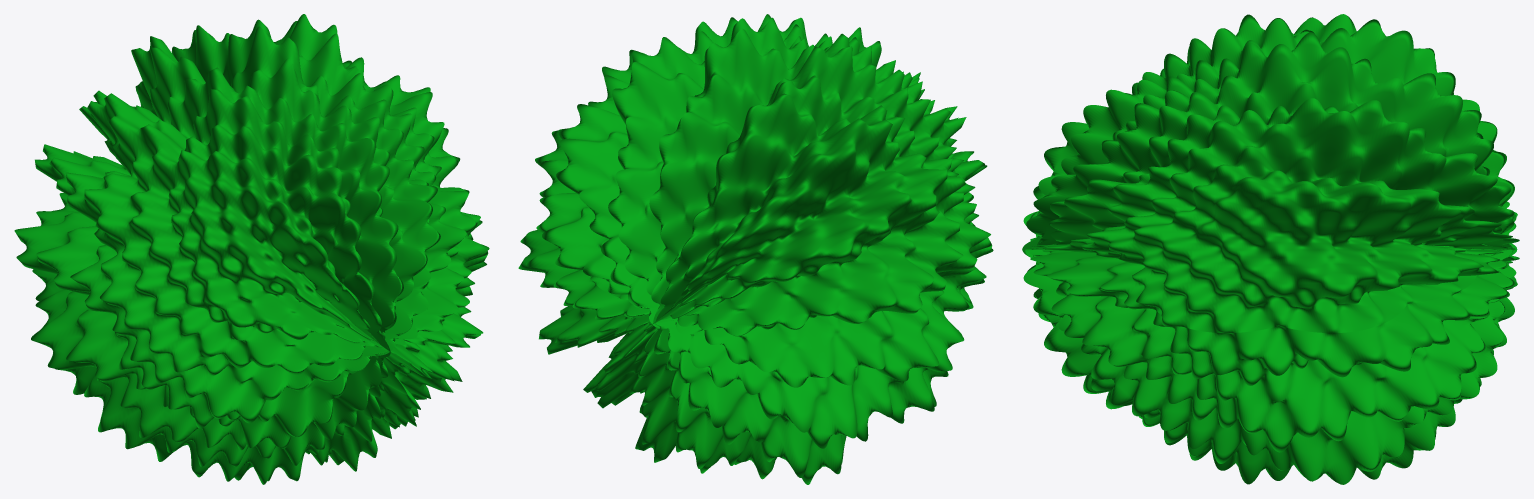
File: dendrimer_nanotech_-_molecular_architecture.glb
3 renders of one model, left to right at view 1: azimuth 30°, elevation 25°; view 2: azimuth 150°, elevation 25°; view 3: azimuth 270°, elevation 25°, orthographic.
Visible parts, largest first — view 1: dendrimer_solid_0; view 2: dendrimer_solid_0; view 3: dendrimer_solid_0.
Part boxes in pixels (left/top/right/bottom): dendrimer_solid_0: left=14, top=14, right=489, bottom=484; dendrimer_solid_0: left=518, top=14, right=993, bottom=484; dendrimer_solid_0: left=1022, top=14, right=1519, bottom=484.
Size of the model in its own units: 2.61 by 2.71 by 2.75.
